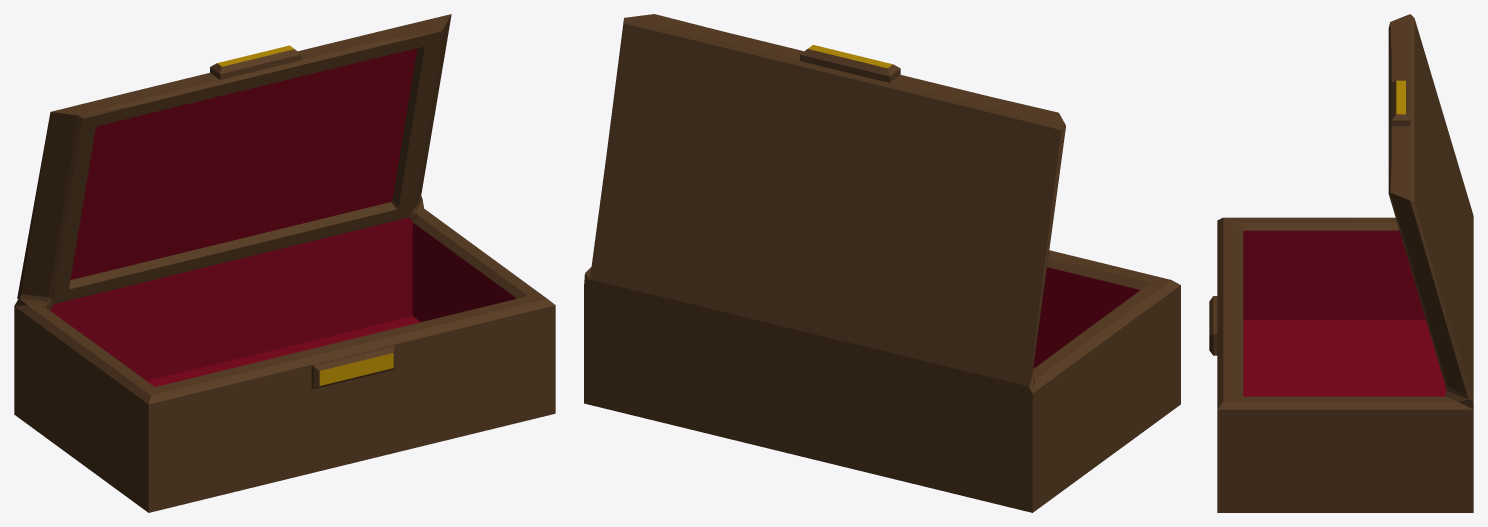
Rendered from jewelrybox.fbx.
3 renders of one model, left to right at view 1: azimuth 30°, elevation 25°; view 2: azimuth 150°, elevation 25°; view 3: azimuth 270°, elevation 25°, orthographic. The views are drawn at different scales.
Parts seen in each view (by area): view 1: jewelrybox; view 2: jewelrybox; view 3: jewelrybox.
Boxes of the visible parts, box(x1,y1,x2,y2) form: jewelrybox: box(14, 14, 555, 512); jewelrybox: box(584, 14, 1180, 512); jewelrybox: box(1209, 14, 1473, 512).
Bounding box in the file's own units: 71.02 × 56.13 × 41.94.
